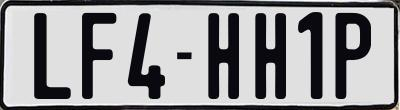1: (297, 9, 326, 98)
4: (128, 12, 169, 103)
F: (81, 13, 115, 100)
H: (206, 11, 243, 98), (252, 11, 286, 100)
L: (31, 10, 73, 99)
P: (333, 11, 373, 98)
